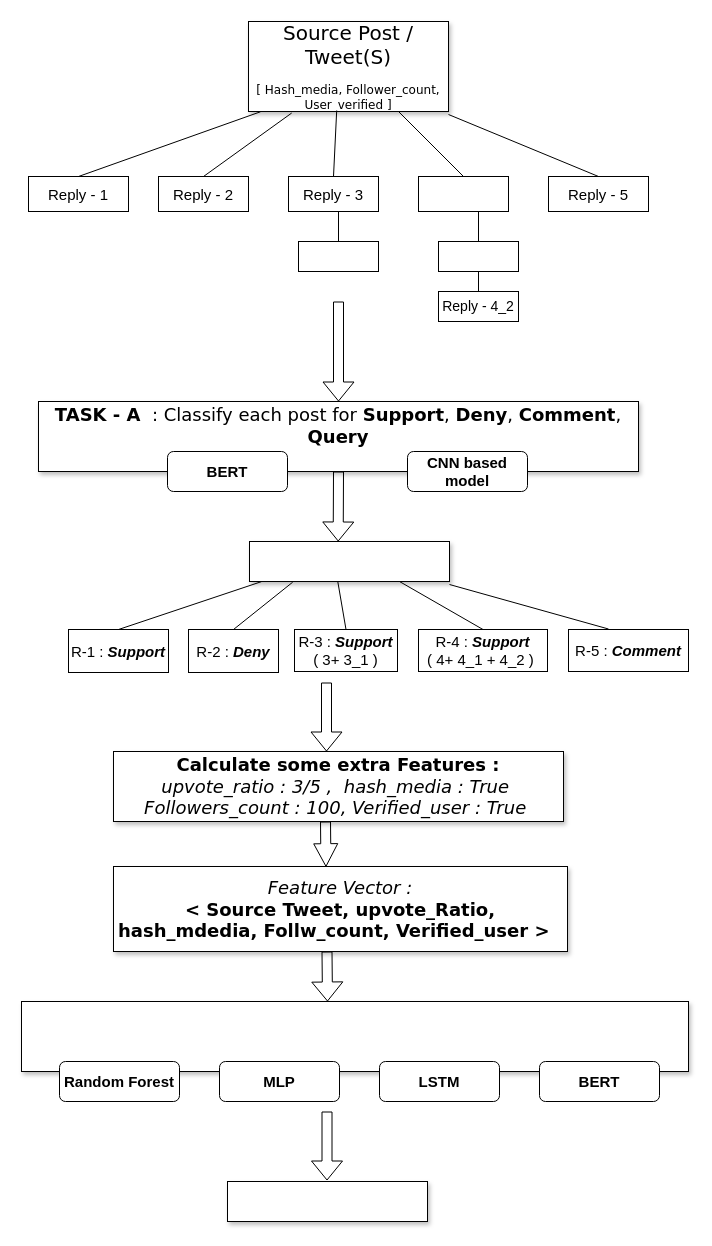
Image size: 712x1246. Some labels were removed from this diagram. The shapes that lost their labels are listed below. From the top down, each one's centre as x and y in pixels, then its label:
At (x=463, y=194): "Reply - 4".
At (x=338, y=256): "Reply - 3_1".
At (x=478, y=256): "Reply - 4_1".
At (x=350, y=562): "Source Post/Tweet(S)".
At (x=355, y=1037): "TASK - B : Determining Veracity of Source tweet : True , False , Unverified".
At (x=328, y=1202): "Source Post/Tweet(S) - Output: Rumor : False".
